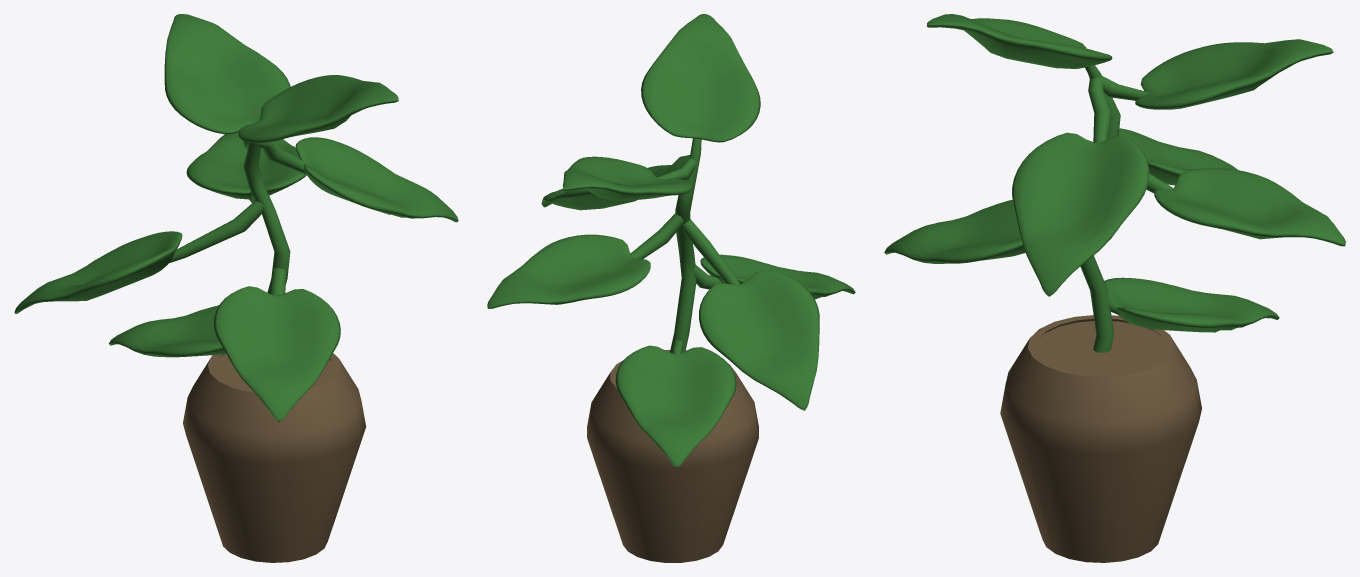
Rendered from large_plant 1.fbx.
3 renders of one model, left to right at view 1: azimuth 30°, elevation 25°; view 2: azimuth 150°, elevation 25°; view 3: azimuth 270°, elevation 25°, orthographic. The views are drawn at different scales.
Parts seen in each view (by area): view 1: sketchfab_render:pSphere62; view 2: sketchfab_render:pSphere62; view 3: sketchfab_render:pSphere62.
Boxes of the visible parts, box(x1,y1,x2,y2) form: sketchfab_render:pSphere62: box(14, 14, 458, 562); sketchfab_render:pSphere62: box(487, 14, 855, 562); sketchfab_render:pSphere62: box(884, 14, 1345, 562).
Size of the model in its own units: 964 by 1252 by 970.
